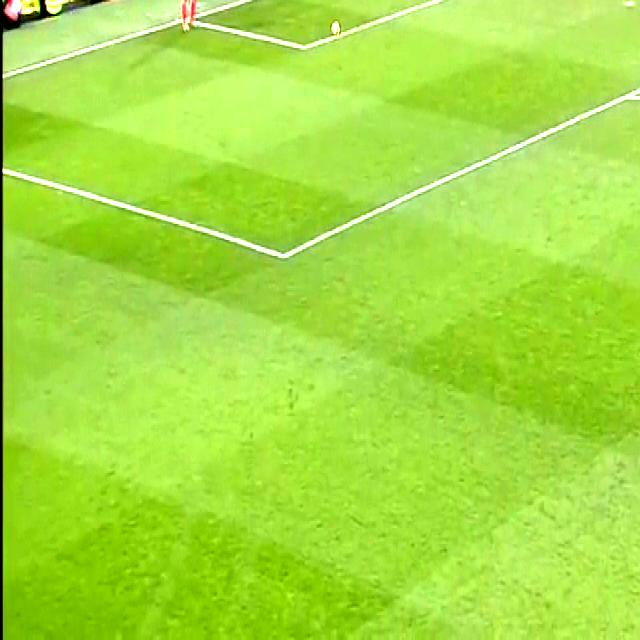ball: (326, 13, 349, 52)
goalkeeper: (176, 0, 210, 39)
